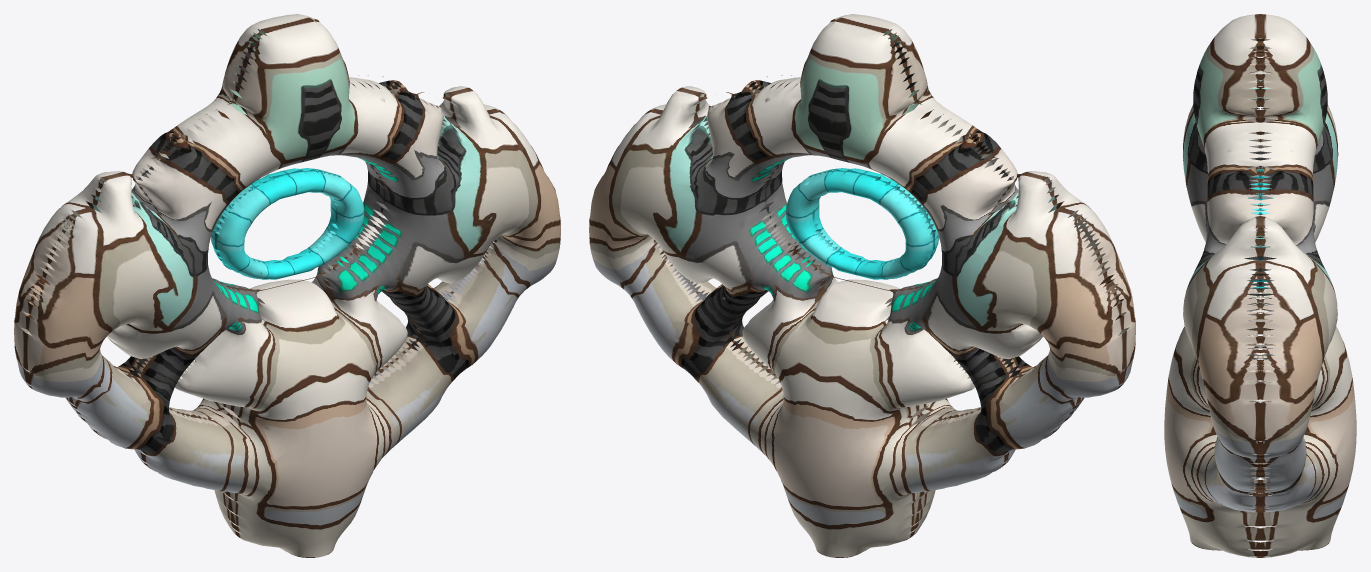
Rendered from reactor.glb.
3 views of the same model, side by side, from view 1: azimuth 30°, elevation 25°; view 2: azimuth 150°, elevation 25°; view 3: azimuth 270°, elevation 25° (orthographic).
Visible parts, largest first — view 1: reactor; view 2: reactor; view 3: reactor.
Boxes of the visible parts, x1,y1,x2,y2 form: reactor: [14, 14, 560, 557]; reactor: [589, 14, 1135, 557]; reactor: [1164, 14, 1356, 557].
Size of the model in its own units: 0.9887 by 0.9125 by 0.3098.
Materials: 1 (1 with a texture image).
